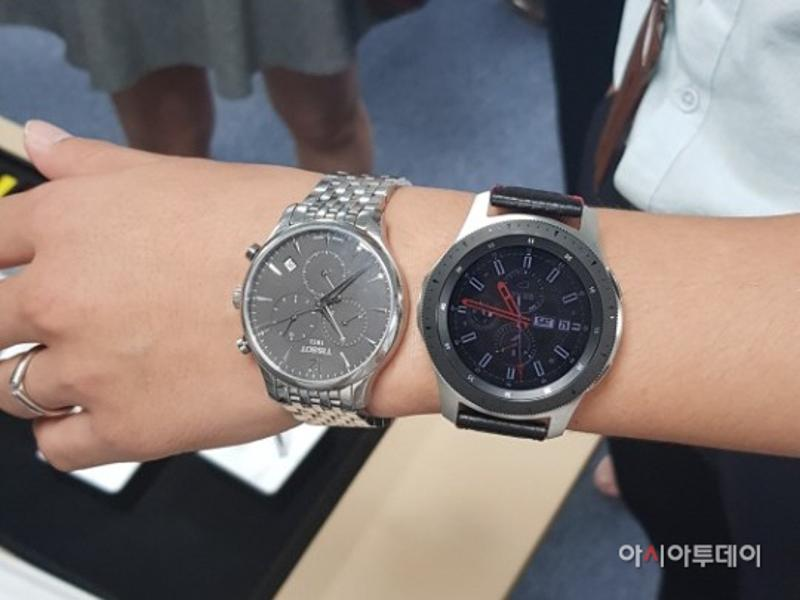watch: (415, 185, 625, 441), (233, 166, 410, 433)
